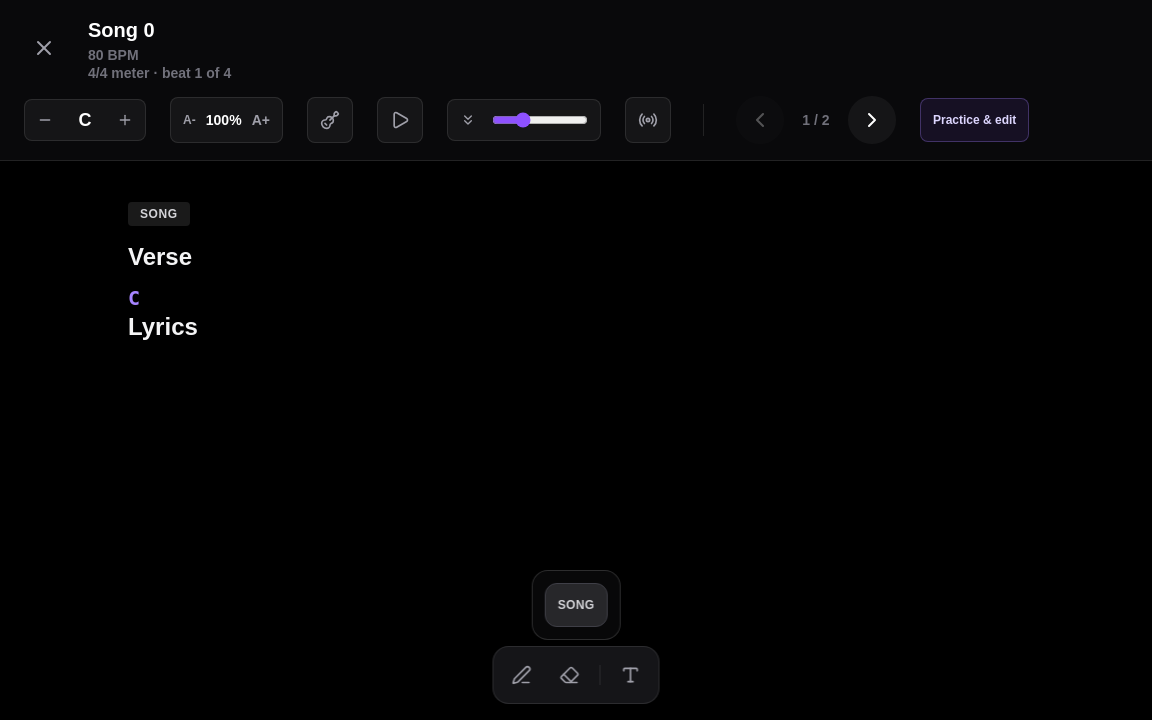
Test: keeps a newly selected song's key when the previous song save fails
The width and height of the screenshot is (1152, 720).
Click the button named "Raise setlist key".
click(125, 120)  # box [109,104,141,136]
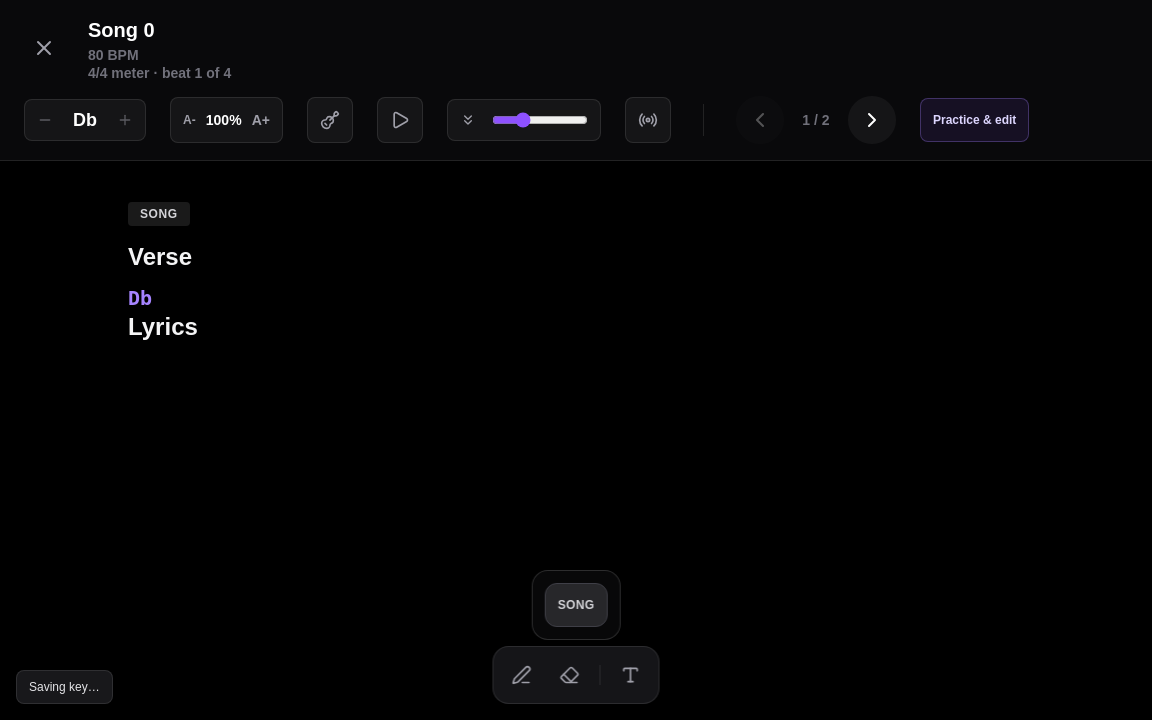
Click the button named "Next song".
click(872, 120)  # box [848,96,896,144]
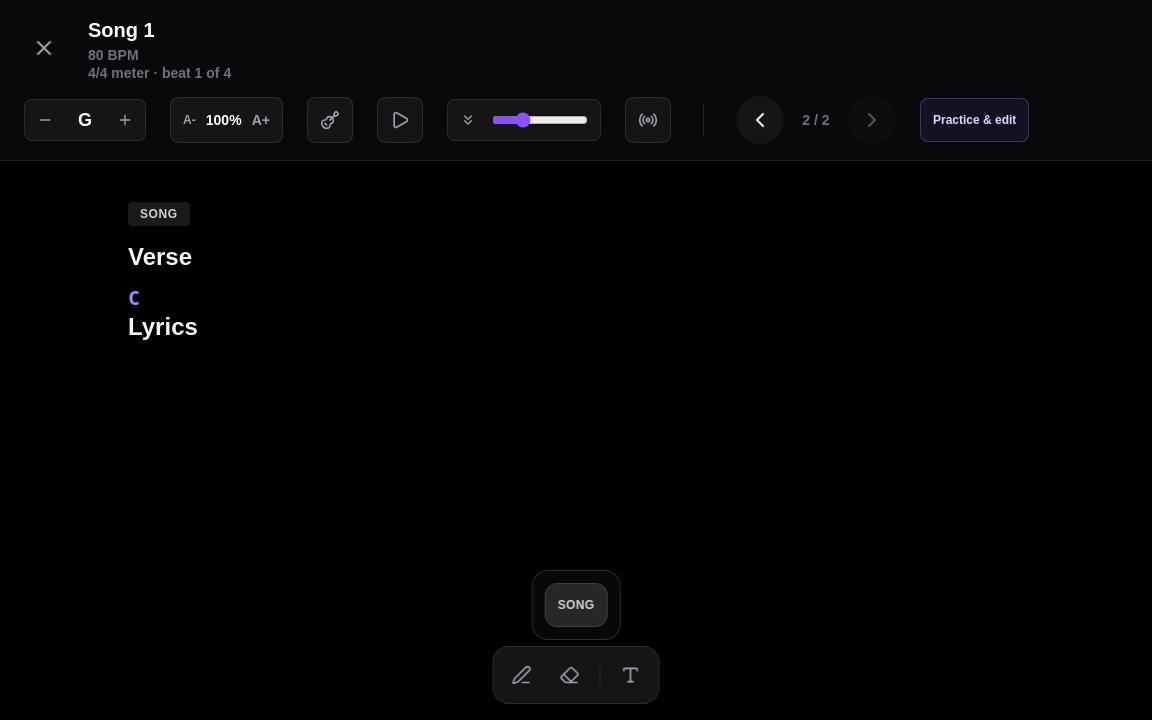
Expected: the text "G" is shown, [78,110,92,130]
Now the button named "Raise setlist key" is enabled, box [109,104,141,136]
Now the message "Saving key…" is gone
